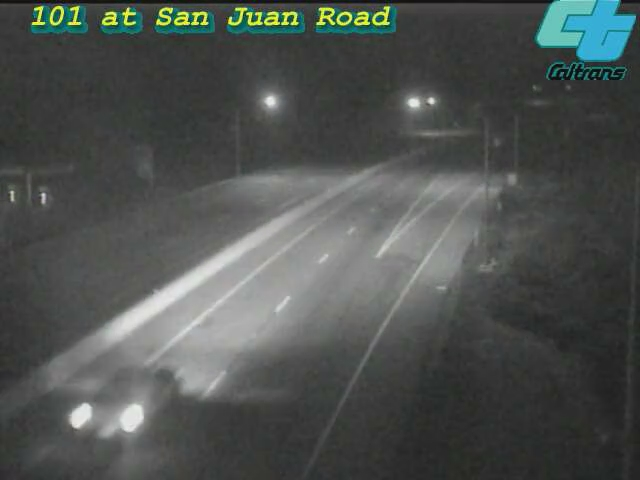vehicle: (68, 348, 178, 458)
